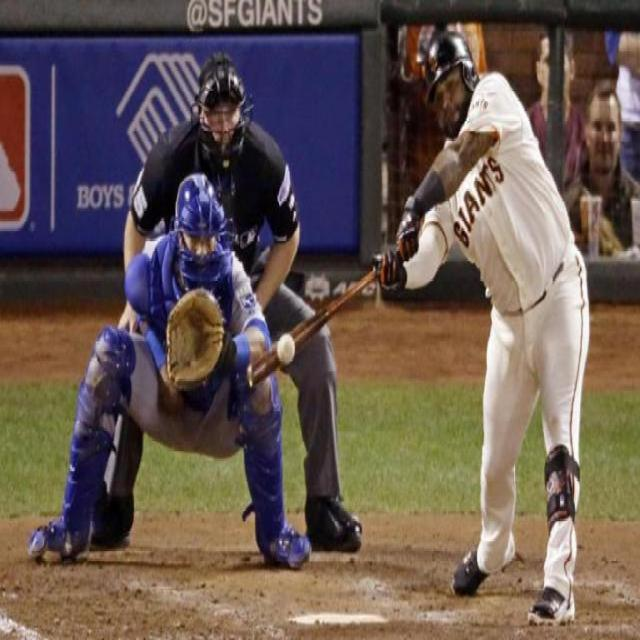mask: (183, 220, 216, 288)
nomask: (203, 91, 241, 162), (434, 66, 465, 132), (589, 107, 617, 169), (540, 42, 570, 90)
